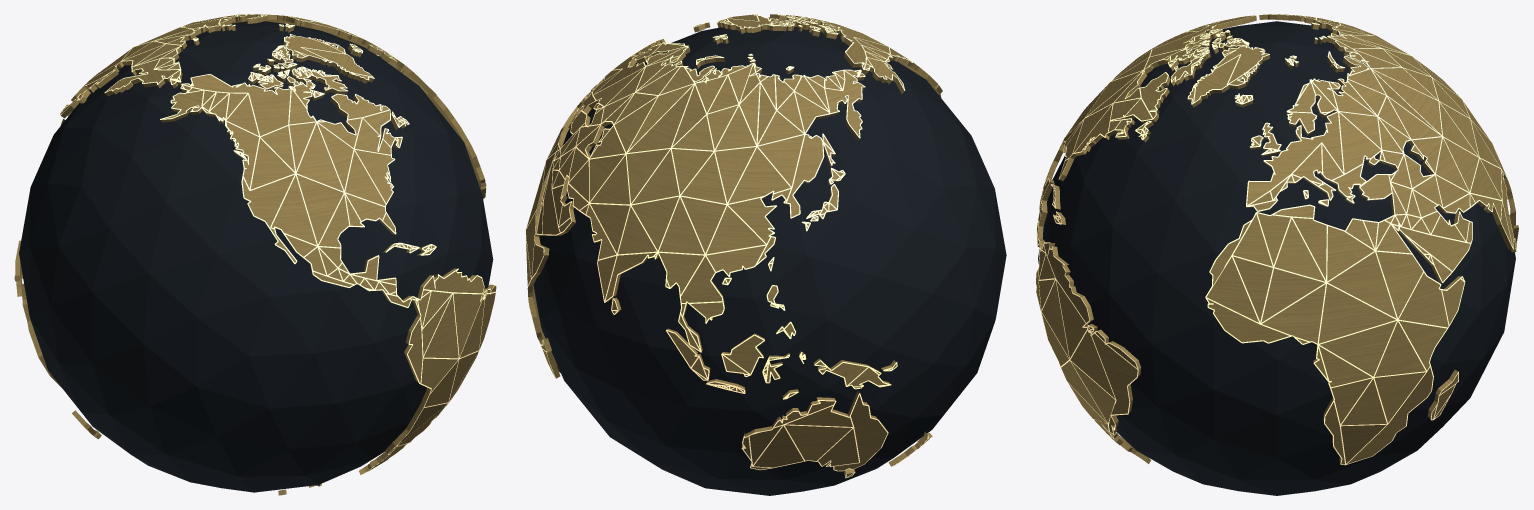
File: atlas_globe_v18.glb
3 views of the same model, side by side, from view 1: azimuth 30°, elevation 25°; view 2: azimuth 150°, elevation 25°; view 3: azimuth 270°, elevation 25° (orthographic).
Visible parts, largest first — view 1: AtlasGlobeScene; view 2: AtlasGlobeScene; view 3: AtlasGlobeScene.
Part boxes in pixels (<box>): AtlasGlobeScene: <box>14,14,496,495</box>; AtlasGlobeScene: <box>525,14,1006,495</box>; AtlasGlobeScene: <box>1035,14,1518,495</box>.
Size of the model in its own units: 2.02 by 2.03 by 2.03.
Materials: 3 (1 with a texture image).
